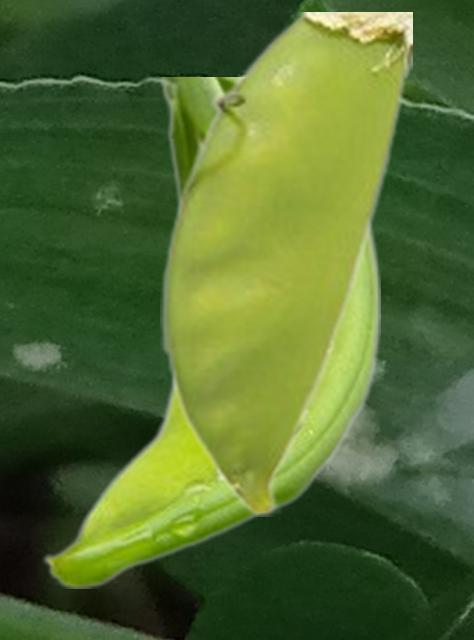pea: (41, 77, 379, 587), (160, 12, 411, 515)
